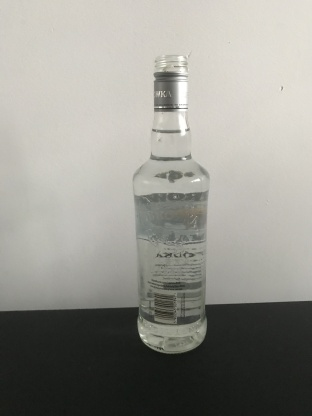nakretka: (151, 52, 190, 113)
